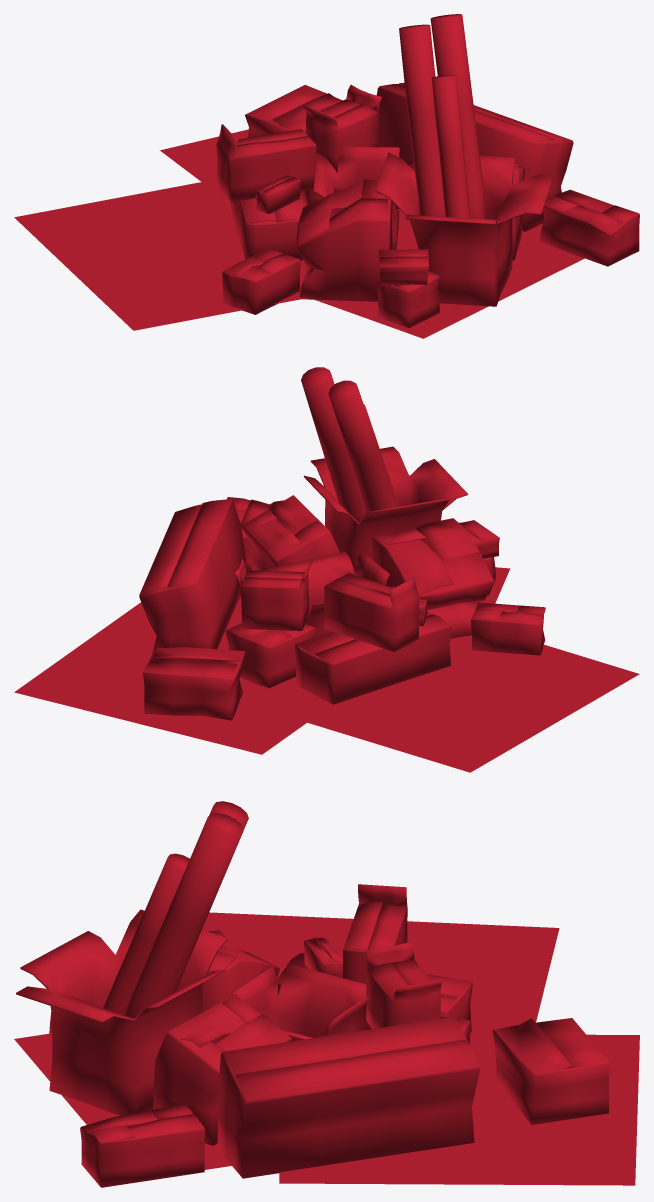
Rendered from Paper1.fbx.
3 renders of one model, top to bottom at view 1: azimuth 30°, elevation 25°; view 2: azimuth 150°, elevation 25°; view 3: azimuth 270°, elevation 25°, orthographic. The views are drawn at different scales.
Parts seen in each view (by area): view 1: polySurface19, polySurface24, polySurface35, polySurface33, polySurface25, polySurface29, polySurface37, polySurface20, polySurface28, polySurface22, polySurface26, polySurface30 (+8 smaller); view 2: polySurface19, polySurface18, polySurface33, polySurface35, polySurface27, polySurface24, polySurface31, polySurface29, polySurface32, polySurface22, polySurface37, polySurface28 (+5 smaller); view 3: polySurface33, polySurface18, polySurface24, polySurface19, polySurface31, polySurface32, polySurface25, polySurface28, polySurface21, polySurface22, polySurface29, polySurface30 (+4 smaller).
Part boxes in pixels (left/top/right/bottom): polySurface19: left=14, top=179, right=308, bottom=330; polySurface24: left=375, top=152, right=553, bottom=306; polySurface35: left=296, top=179, right=392, bottom=301; polySurface33: left=376, top=82, right=573, bottom=231; polySurface25: left=539, top=189, right=639, bottom=266; polySurface29: left=216, top=124, right=316, bottom=202; polySurface37: left=399, top=24, right=445, bottom=216; polySurface20: left=315, top=223, right=584, bottom=338; polySurface28: left=430, top=14, right=485, bottom=219; polySurface22: left=303, top=85, right=382, bottom=172; polySurface26: left=222, top=248, right=300, bottom=314; polySurface30: left=431, top=75, right=470, bottom=218; polySurface19: left=239, top=635, right=639, bottom=772; polySurface18: left=14, top=602, right=306, bottom=754; polySurface33: left=139, top=499, right=245, bottom=654; polySurface35: left=372, top=518, right=494, bottom=638; polySurface27: left=295, top=612, right=451, bottom=704; polySurface24: left=303, top=446, right=468, bottom=573; polySurface31: left=143, top=647, right=245, bottom=720; polySurface29: left=324, top=573, right=419, bottom=651; polySurface32: left=241, top=495, right=339, bottom=570; polySurface22: left=233, top=558, right=312, bottom=630; polySurface37: left=328, top=380, right=396, bottom=512; polySurface28: left=301, top=367, right=366, bottom=523; polySurface33: left=217, top=1016, right=479, bottom=1178; polySurface18: left=279, top=1034, right=639, bottom=1185; polySurface24: left=16, top=909, right=227, bottom=1115; polySurface19: left=202, top=912, right=559, bottom=1076; polySurface31: left=492, top=1018, right=610, bottom=1124; polySurface32: left=153, top=994, right=292, bottom=1145; polySurface25: left=80, top=1104, right=205, bottom=1187; polySurface28: left=124, top=813, right=243, bottom=1018; polySurface21: left=231, top=964, right=369, bottom=1041; polySurface22: left=365, top=941, right=442, bottom=1029; polySurface29: left=343, top=884, right=407, bottom=983; polySurface30: left=103, top=853, right=189, bottom=1014.
Size of the model in its own units: 310 by 152 by 299.
